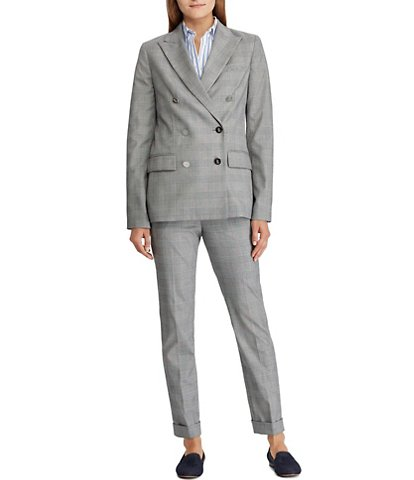feet: (166, 421, 302, 478)
